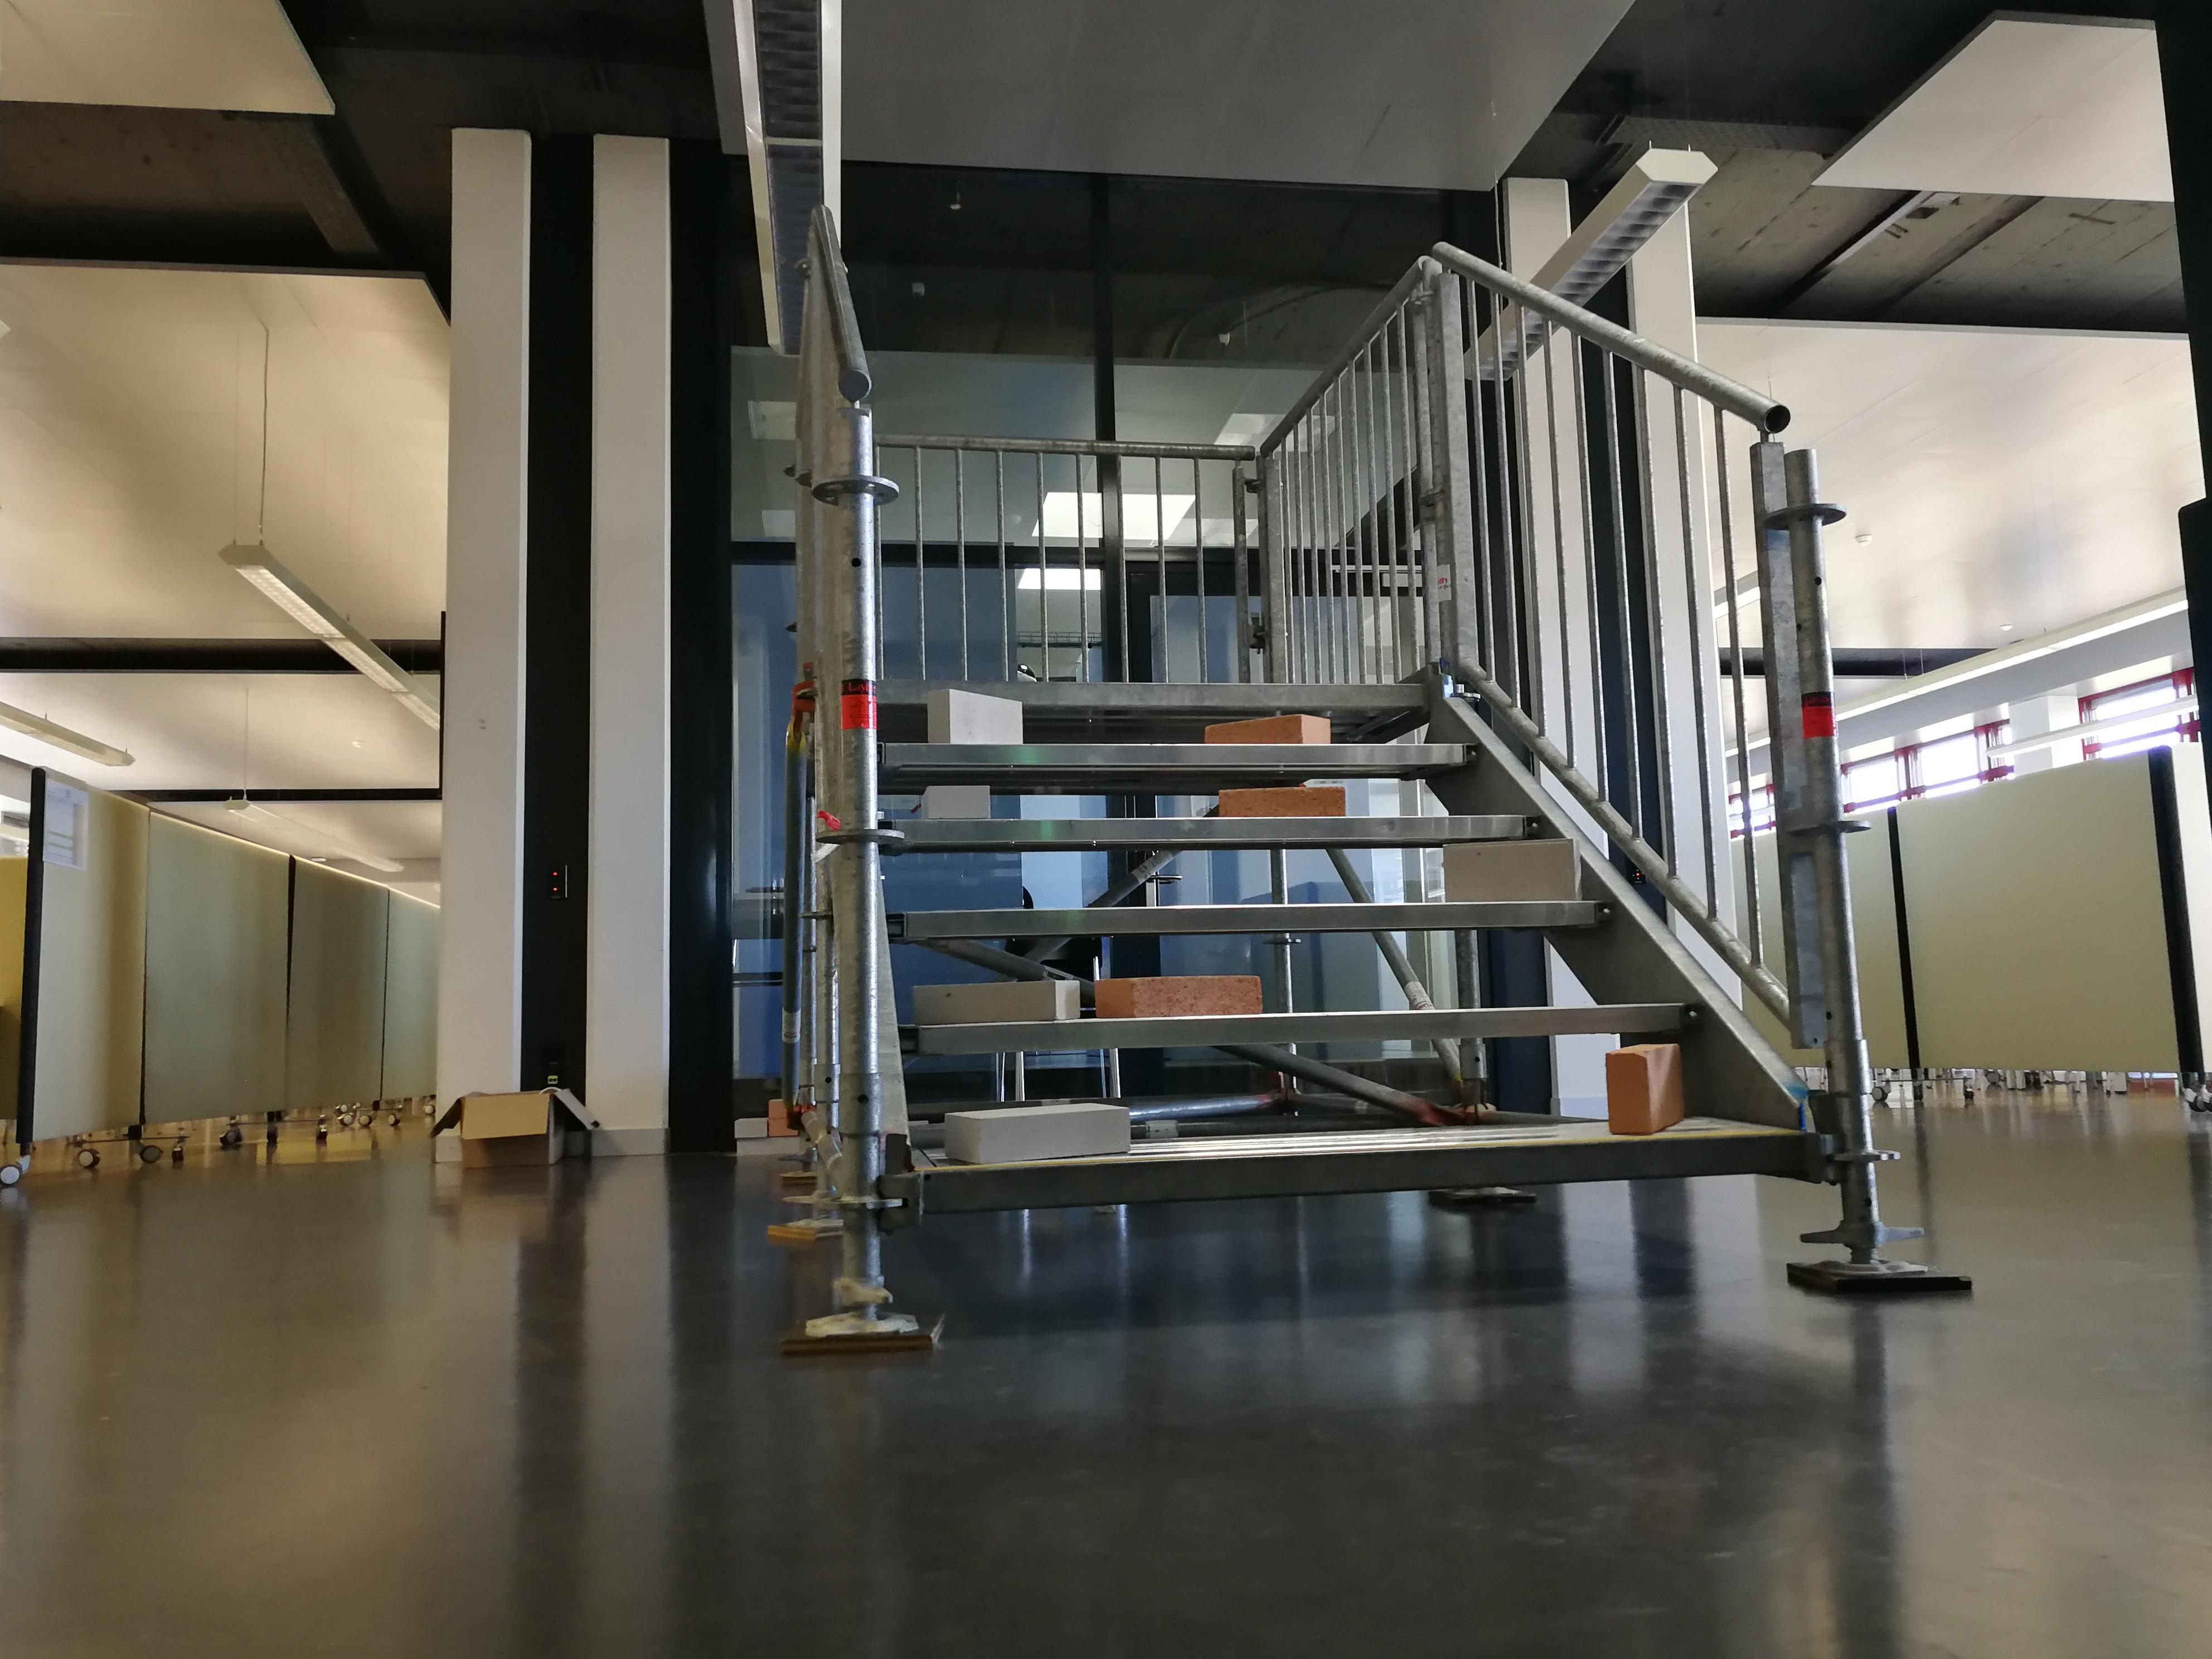brick: (946, 1105, 1125, 1162), (1444, 840, 1580, 901), (1604, 1042, 1683, 1133), (1096, 972, 1263, 1014), (913, 979, 1076, 1018), (928, 690, 1021, 744), (1204, 713, 1329, 749), (1221, 784, 1341, 819), (927, 784, 982, 817)
edge: (916, 1133, 1806, 1211), (888, 1004, 1702, 1051), (885, 812, 1552, 842), (873, 676, 1433, 709), (876, 739, 1482, 767), (888, 904, 1615, 927)
stairs: (775, 214, 1970, 1354)
steps: (866, 652, 1817, 1236)
